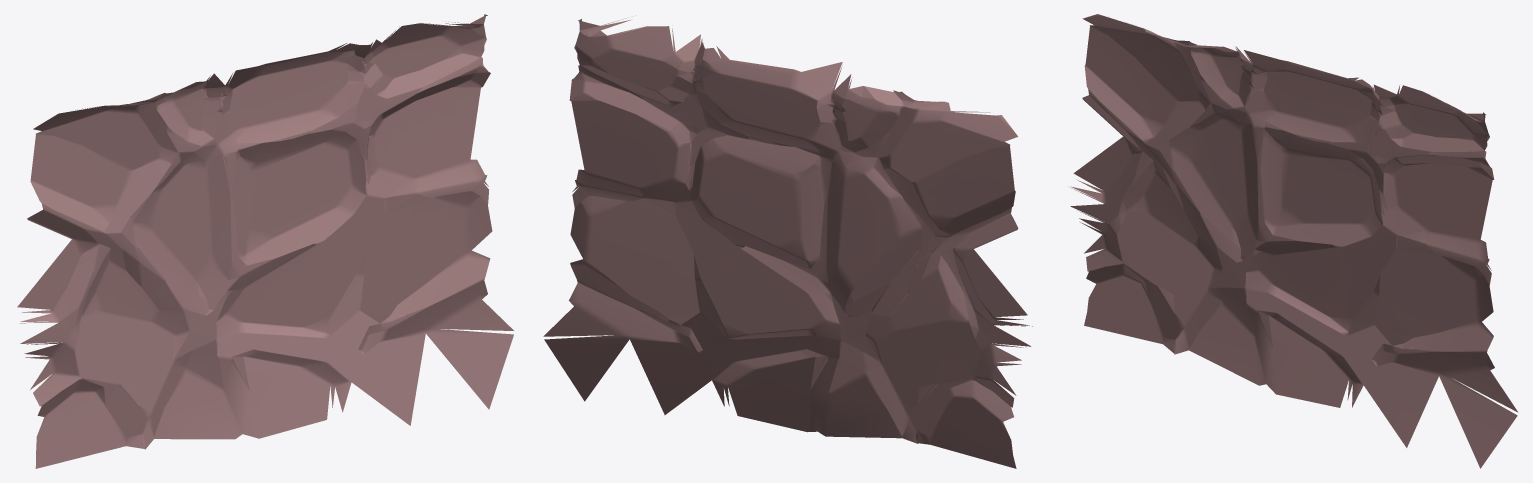
File: plateau.fbx_Rock_Plateau_017LODs.fbx
The picture shows the model from 3 angles, left to right: view 1: azimuth 30°, elevation 25°; view 2: azimuth 150°, elevation 25°; view 3: azimuth 330°, elevation 25°; orthographic projection. The views are drawn at different scales.
Parts seen in each view (by area): view 1: Rock Plateau.017_LOD0; view 2: Rock Plateau.017_LOD0; view 3: Rock Plateau.017_LOD0.
Boxes of the visible parts, x1,y1,x2,y2 form: Rock Plateau.017_LOD0: [17, 14, 513, 468]; Rock Plateau.017_LOD0: [543, 18, 1032, 468]; Rock Plateau.017_LOD0: [1069, 14, 1518, 468].
Size of what is drawn, in the model's own units: 3789 by 2930 by 214.
